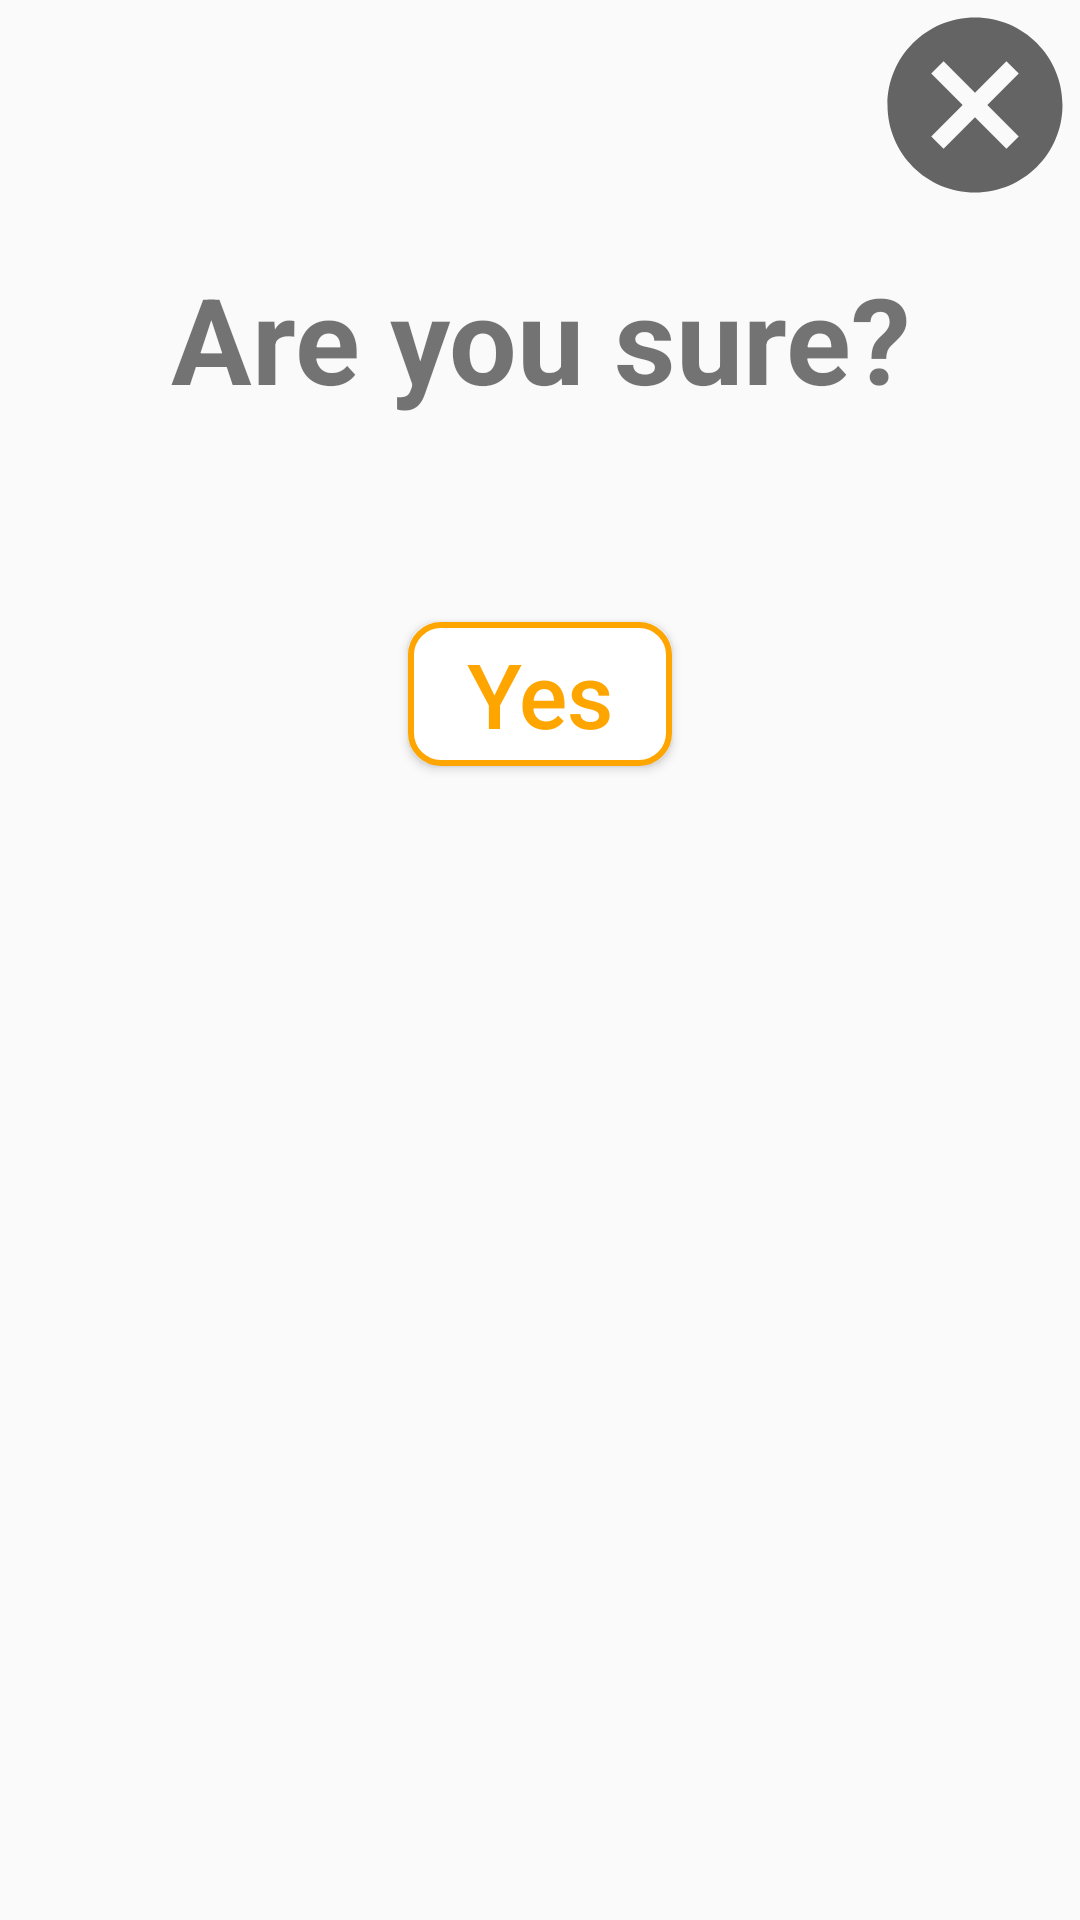

Where to tap for icons on this 1080w x 1920h app screen, as [x,y]:
cancel: [975,105]
